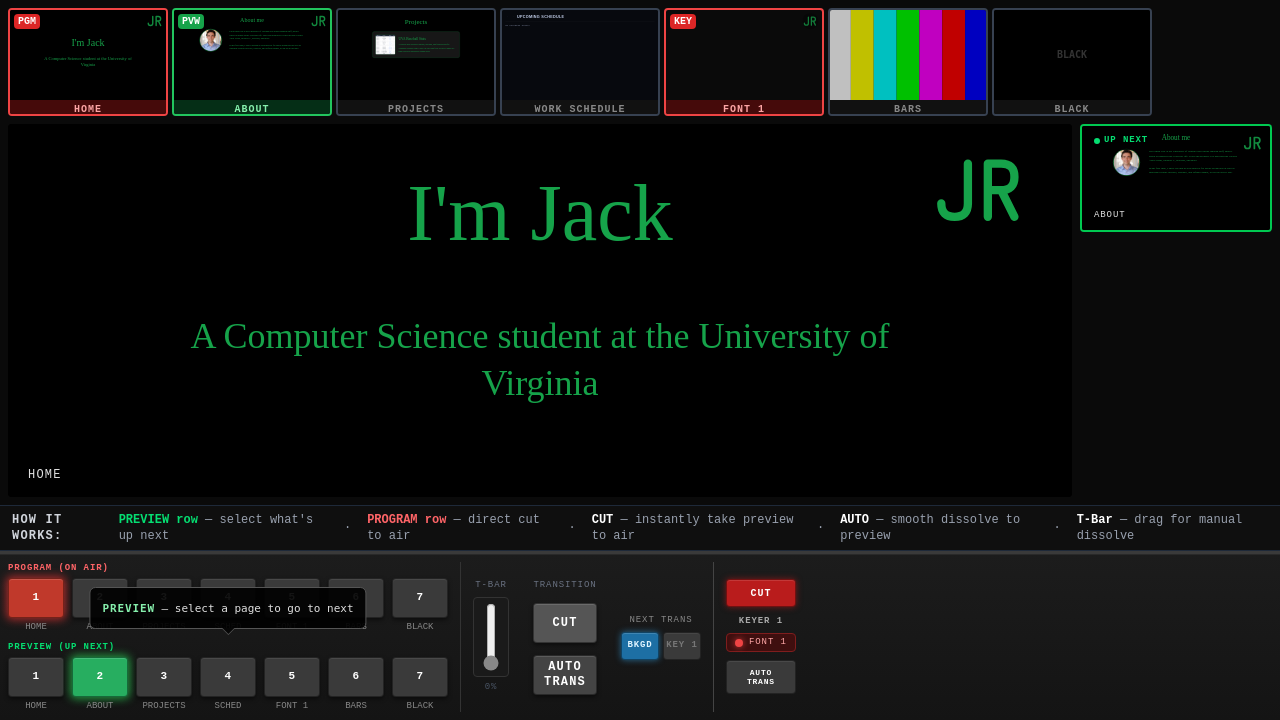
Test: Switcher App – AUTO transition › completes transition and updates program after animation
The width and height of the screenshot is (1280, 720).
Click the button with test id "auto-transition".
click(565, 675)  # box x1=533 y1=655 x2=597 y2=695
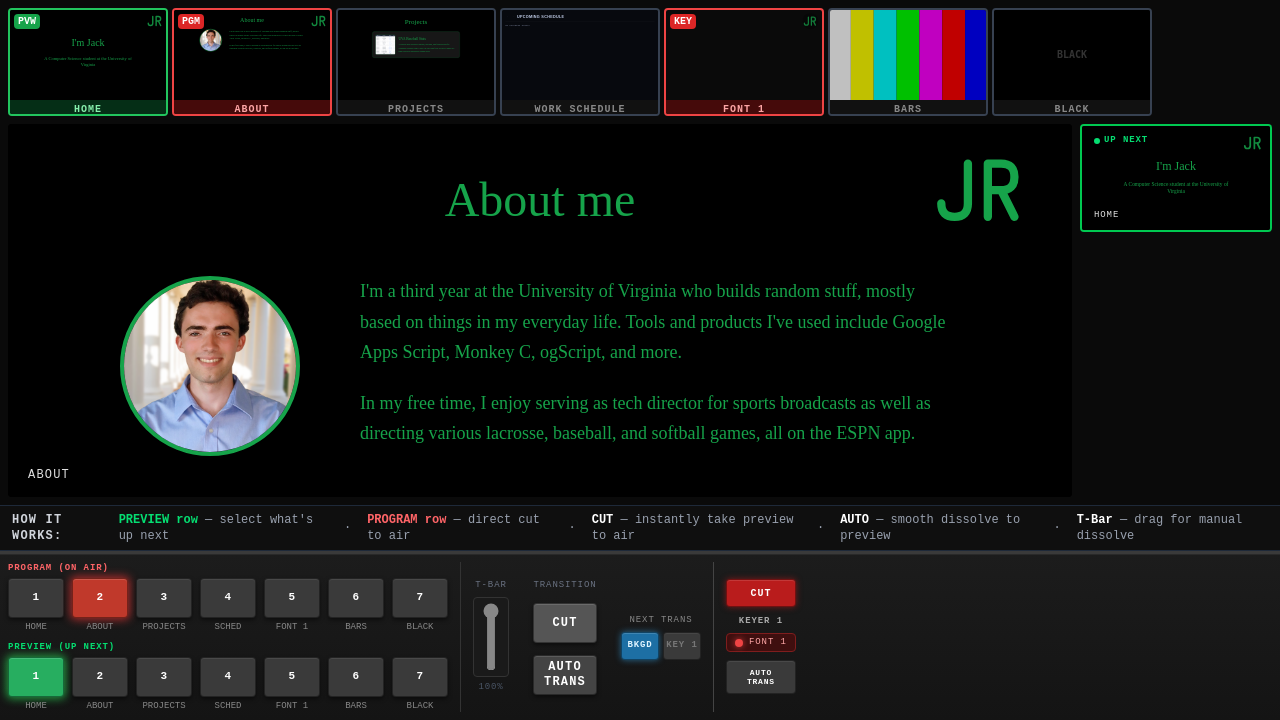
Expected: the text with test id "program-label" reads "ABOUT", x1=28 y1=468 x2=70 y2=482
